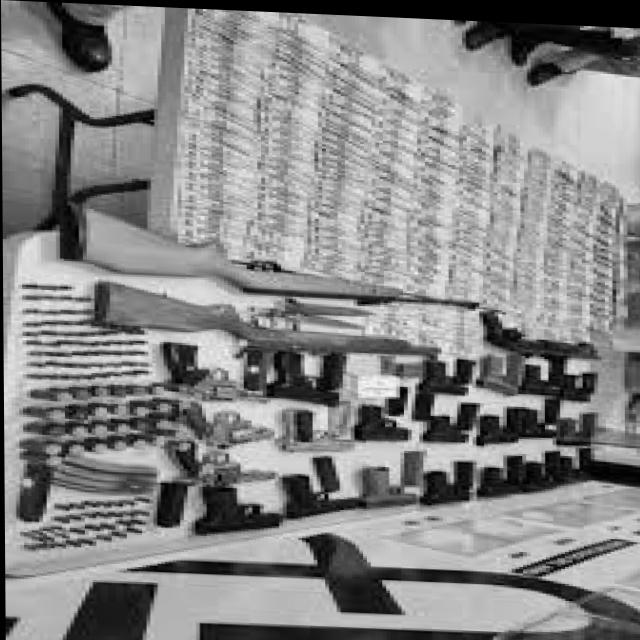handgun: (159, 347, 272, 403), (178, 403, 274, 449), (197, 485, 281, 536), (171, 446, 270, 486), (281, 471, 361, 519), (283, 403, 350, 456), (271, 351, 335, 404), (361, 467, 419, 507), (356, 400, 411, 440), (418, 466, 472, 504), (414, 357, 467, 393), (482, 359, 526, 396), (528, 359, 573, 393), (473, 410, 514, 443), (429, 411, 467, 441), (483, 462, 511, 495)
rifle: (55, 195, 484, 306), (92, 295, 476, 355), (484, 306, 609, 358)
